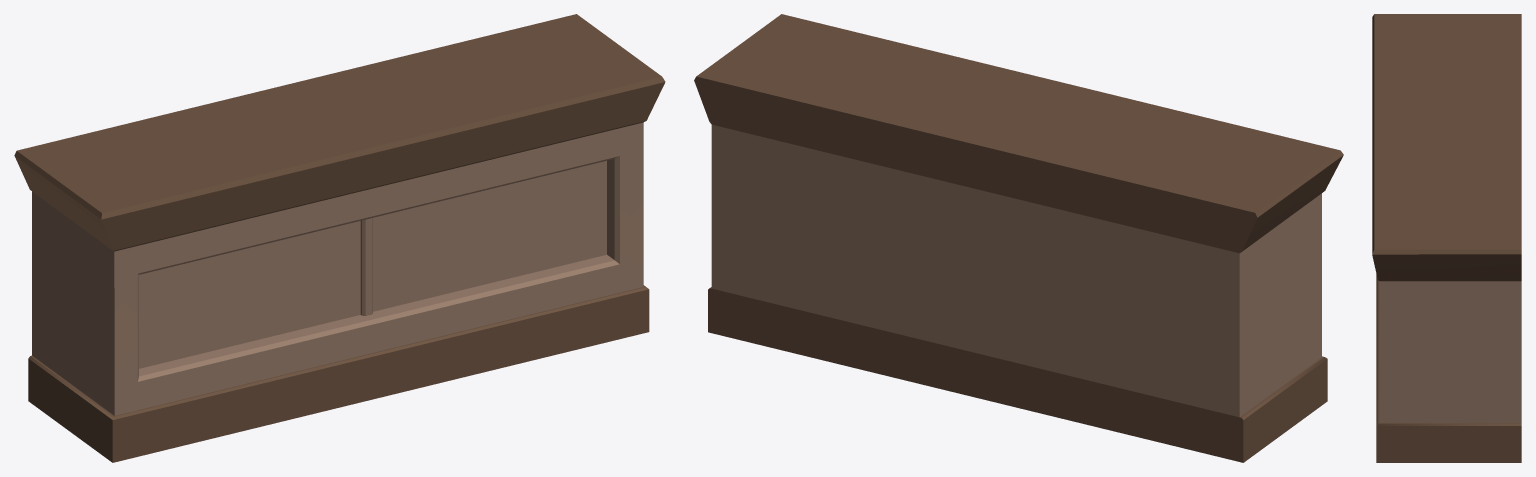
The model's file is Vanity.fbx.
3 views of the same model, side by side, from view 1: azimuth 30°, elevation 25°; view 2: azimuth 150°, elevation 25°; view 3: azimuth 270°, elevation 25° (orthographic). The views are drawn at different scales.
Visible parts, largest first — view 1: Vanity; view 2: Vanity; view 3: Vanity.
Boxes of the visible parts, <box> form: Vanity: <box>14,14,665,462</box>; Vanity: <box>694,14,1343,462</box>; Vanity: <box>1372,14,1521,462</box>.
Bounding box in the file's own units: 352 × 151 × 93.82.
